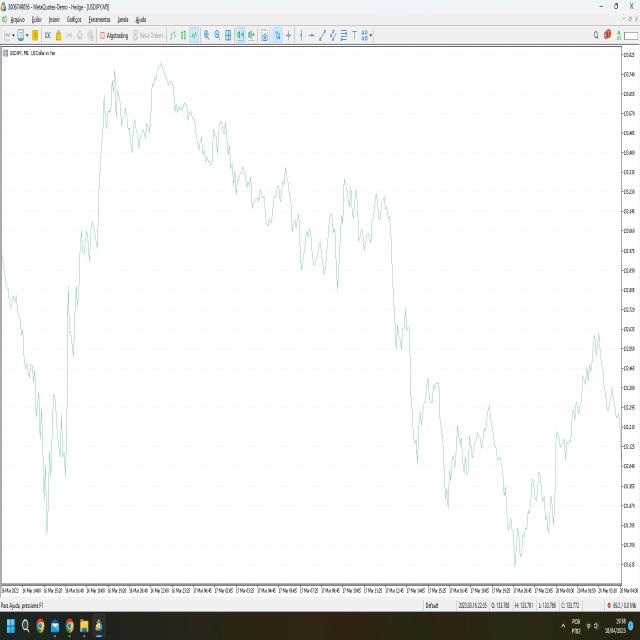bandeira_alta: (68, 211, 100, 356)
fundo_duplo: (16, 346, 80, 546), (488, 440, 562, 577)
topo_duplo: (337, 142, 399, 306)
